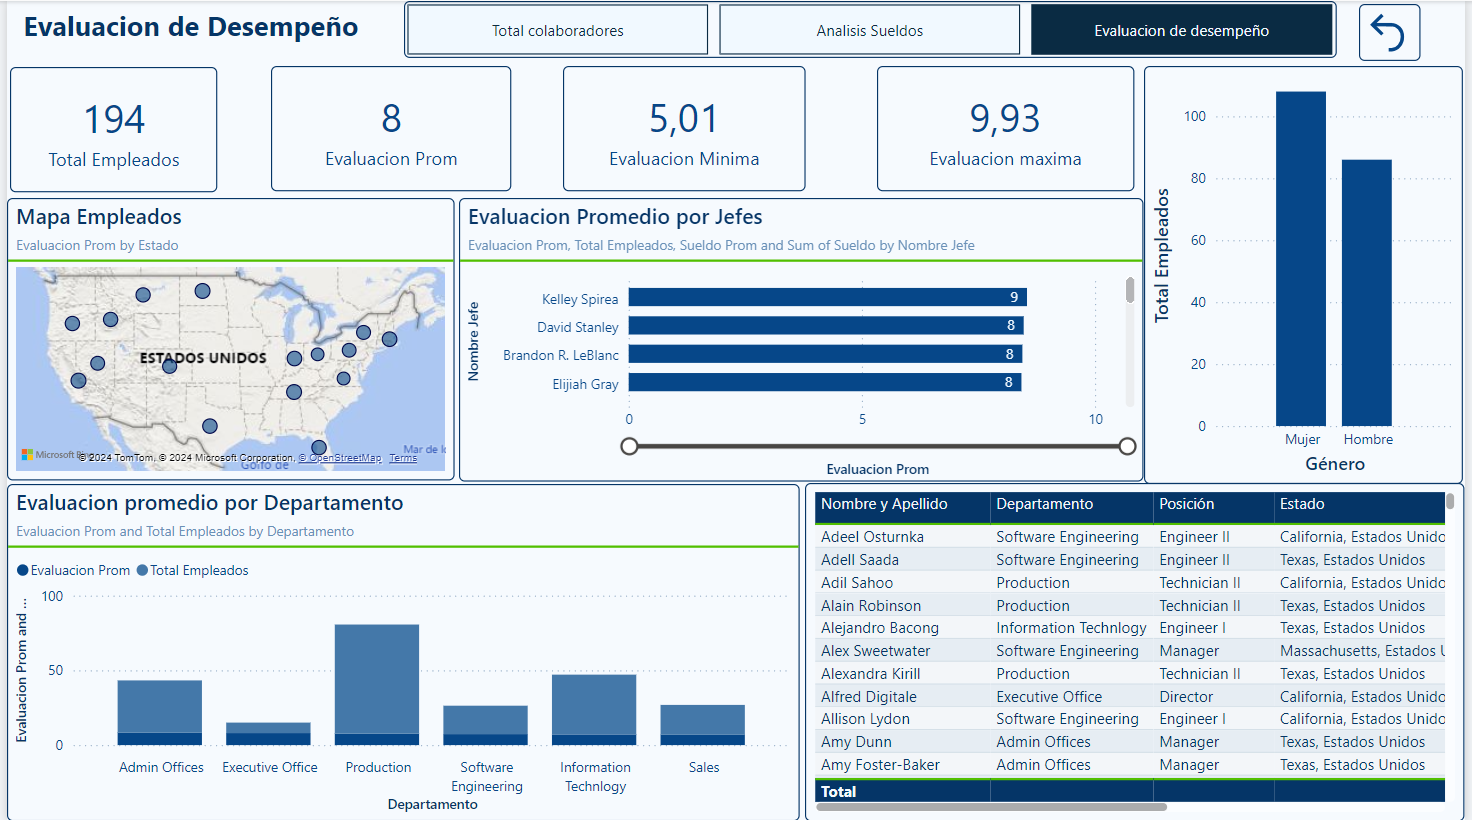

Layout of this report page (visuals, bound fields, positions):
{"tool":"powerbi","page":{"name":"Evaluacion de desempeño","canvas":[1280,720],"ordinal":2},"visuals":[{"type":"tableEx","fields":{"Values":["Tabla Empleados.Nombre y Apellido","Tabla Empleados.Departamento","Tabla Empleados.Posición","Tabla Empleados.Estado","Tabla Empleados.Género","Tabla Evaluacion.Evaluacion Prom","Tabla Sueldo.Sueldo Prom","Tabla Empleados.Edad Prom"]},"box":[701.1,423.3,578.9,296.7],"z":0},{"type":"card","fields":{"Values":["Tabla Empleados.Total Empleados"]},"box":[2.2,57.7,182.2,110],"z":1000},{"type":"columnChart","fields":{"Category":["Tabla Empleados.Género"],"Y":["Tabla Empleados.Total Empleados"]},"box":[998.6,57.1,280,367.1],"z":2000},{"type":"columnChart","title":"Evaluacion promedio por Departamento","fields":{"Y":["Tabla Evaluacion.Evaluacion Prom","Tabla Empleados.Total Empleados"],"Category":["Tabla Empleados.Departamento"]},"box":[0,423.8,696.2,296.2],"z":3000},{"type":"map","title":"Mapa Empleados","fields":{"Category":["Tabla Empleados.Estado"],"Size":["Tabla Evaluacion.Evaluacion Prom"]},"box":[0,173.3,393.3,247.8],"z":4000},{"type":"actionButton","box":[1187.1,2.9,54.3,50],"z":5000},{"type":"card","fields":{"Values":["Tabla Evaluacion.Evaluacion Prom"]},"box":[231.4,57.1,211.4,110],"z":6000},{"type":"card","fields":{"Values":["Tabla Empleados.Evaluacion maxima"]},"box":[764.3,57.1,225.7,110],"z":7000},{"type":"card","fields":{"Values":["Tabla Empleados.Evaluacion Minima"]},"box":[488.6,57.1,212.9,110],"z":8000},{"type":"barChart","title":"Evaluacion Promedio por Jefes","fields":{"Category":["Tabla Empleados.Nombre Jefe"],"Y":["Tabla Evaluacion.Evaluacion Prom"]},"box":[397.1,172.9,601.4,248.6],"z":11000},{"type":"textbox","box":[1.7,0,319.6,53],"z":12000},{"type":"pageNavigator","box":[348.6,0,818.6,50],"z":13000}]}

Visuals, with their boxes in screenshot pixels (x1, y1, x2, y2), scaled from the page's 1280x720 canvas onto the 1472x820 screenshot:
tableEx - Tabla Empleados.Nombre y Apellido x Tabla Empleados.Departamento: <bbox>806, 482, 1471, 819</bbox>
card - Tabla Empleados.Total Empleados: <bbox>3, 66, 212, 191</bbox>
columnChart - Tabla Empleados.Género x Tabla Empleados.Total Empleados: <bbox>1148, 65, 1470, 483</bbox>
"Evaluacion promedio por Departamento" columnChart: <bbox>0, 483, 801, 819</bbox>
"Mapa Empleados" map: <bbox>0, 197, 452, 480</bbox>
actionButton: <bbox>1365, 3, 1428, 60</bbox>
card - Tabla Evaluacion.Evaluacion Prom: <bbox>266, 65, 509, 190</bbox>
card - Tabla Empleados.Evaluacion maxima: <bbox>879, 65, 1138, 190</bbox>
card - Tabla Empleados.Evaluacion Minima: <bbox>562, 65, 807, 190</bbox>
"Evaluacion Promedio por Jefes" barChart: <bbox>457, 197, 1148, 480</bbox>
textbox: <bbox>2, 0, 369, 60</bbox>
pageNavigator: <bbox>401, 0, 1342, 57</bbox>
